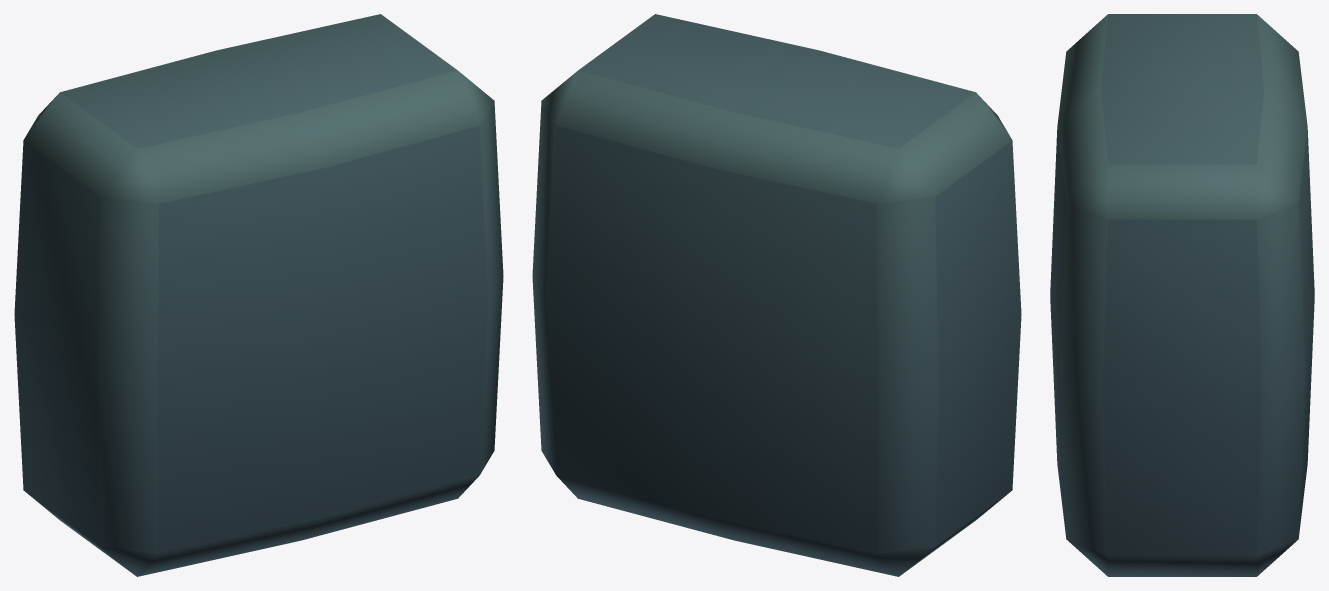
Rendered from cube_02_shade_4_LOD_setup.fbx.
3 views of the same model, side by side, from view 1: azimuth 30°, elevation 25°; view 2: azimuth 150°, elevation 25°; view 3: azimuth 270°, elevation 25° (orthographic). The views are drawn at different scales.
Visible parts, largest first — view 1: cube_02_shade_4_LOD0; view 2: cube_02_shade_4_LOD0; view 3: cube_02_shade_4_LOD0.
Part boxes in pixels (x1=…): cube_02_shade_4_LOD0: x1=14, y1=14, x2=503, y2=576; cube_02_shade_4_LOD0: x1=532, y1=14, x2=1021, y2=576; cube_02_shade_4_LOD0: x1=1050, y1=14, x2=1314, y2=576.
Size of what is drawn, in the model's own units: 54.61 by 55.02 by 32.01.
